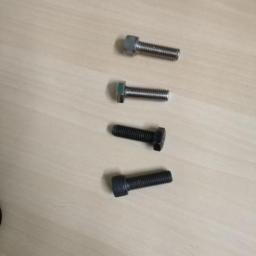screwtype1black: (110, 169, 176, 198)
screwtype1silver: (122, 33, 181, 65)
screwtype2black: (111, 122, 167, 151)
screwtype2silver: (114, 78, 172, 106)
